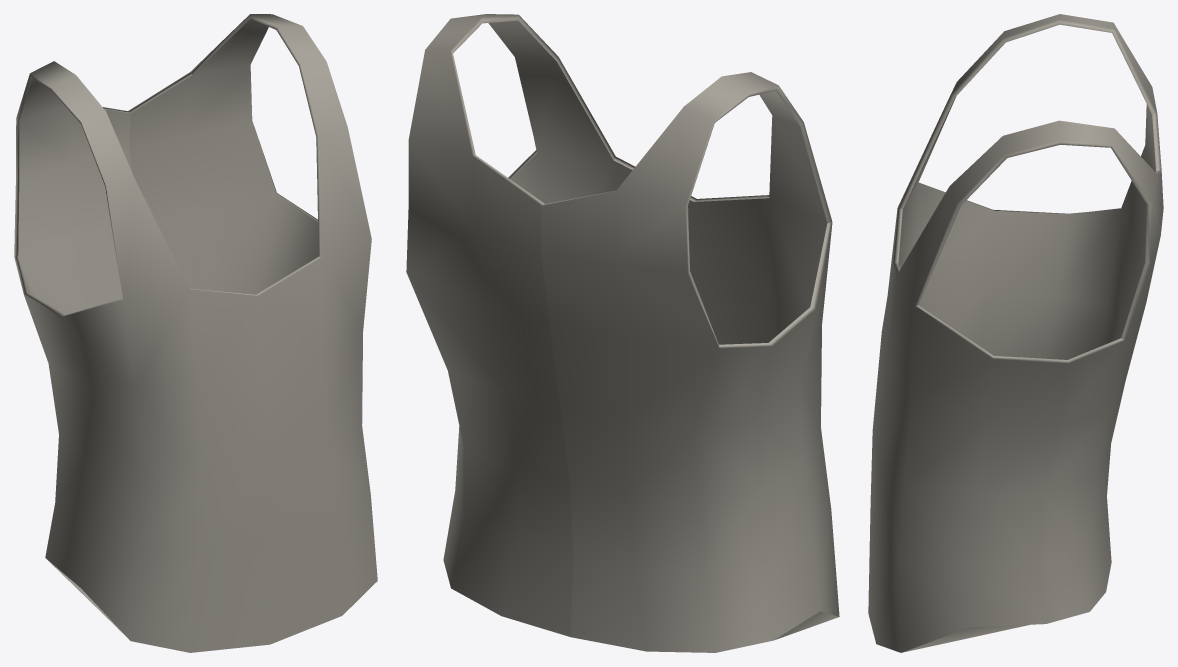
File: MenV1brief_T.fbx
3 views of the same model, side by side, from view 1: azimuth 30°, elevation 25°; view 2: azimuth 150°, elevation 25°; view 3: azimuth 270°, elevation 25° (orthographic). The views are drawn at different scales.
Parts seen in each view (by area): view 1: MenV1brief_T; view 2: MenV1brief_T; view 3: MenV1brief_T.
Part boxes in pixels (<box>): MenV1brief_T: <box>14,14,377,652</box>; MenV1brief_T: <box>406,14,839,652</box>; MenV1brief_T: <box>868,14,1163,652</box>.
Size of the model in its own units: 32.02 by 54.12 by 26.65.
